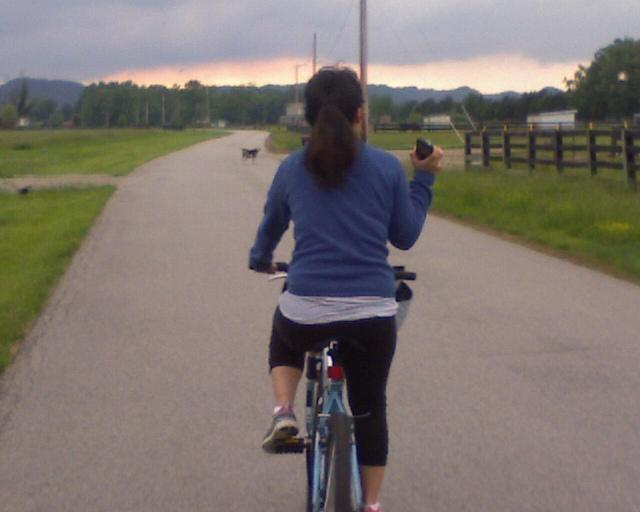bicycle: (264, 349, 364, 512)
